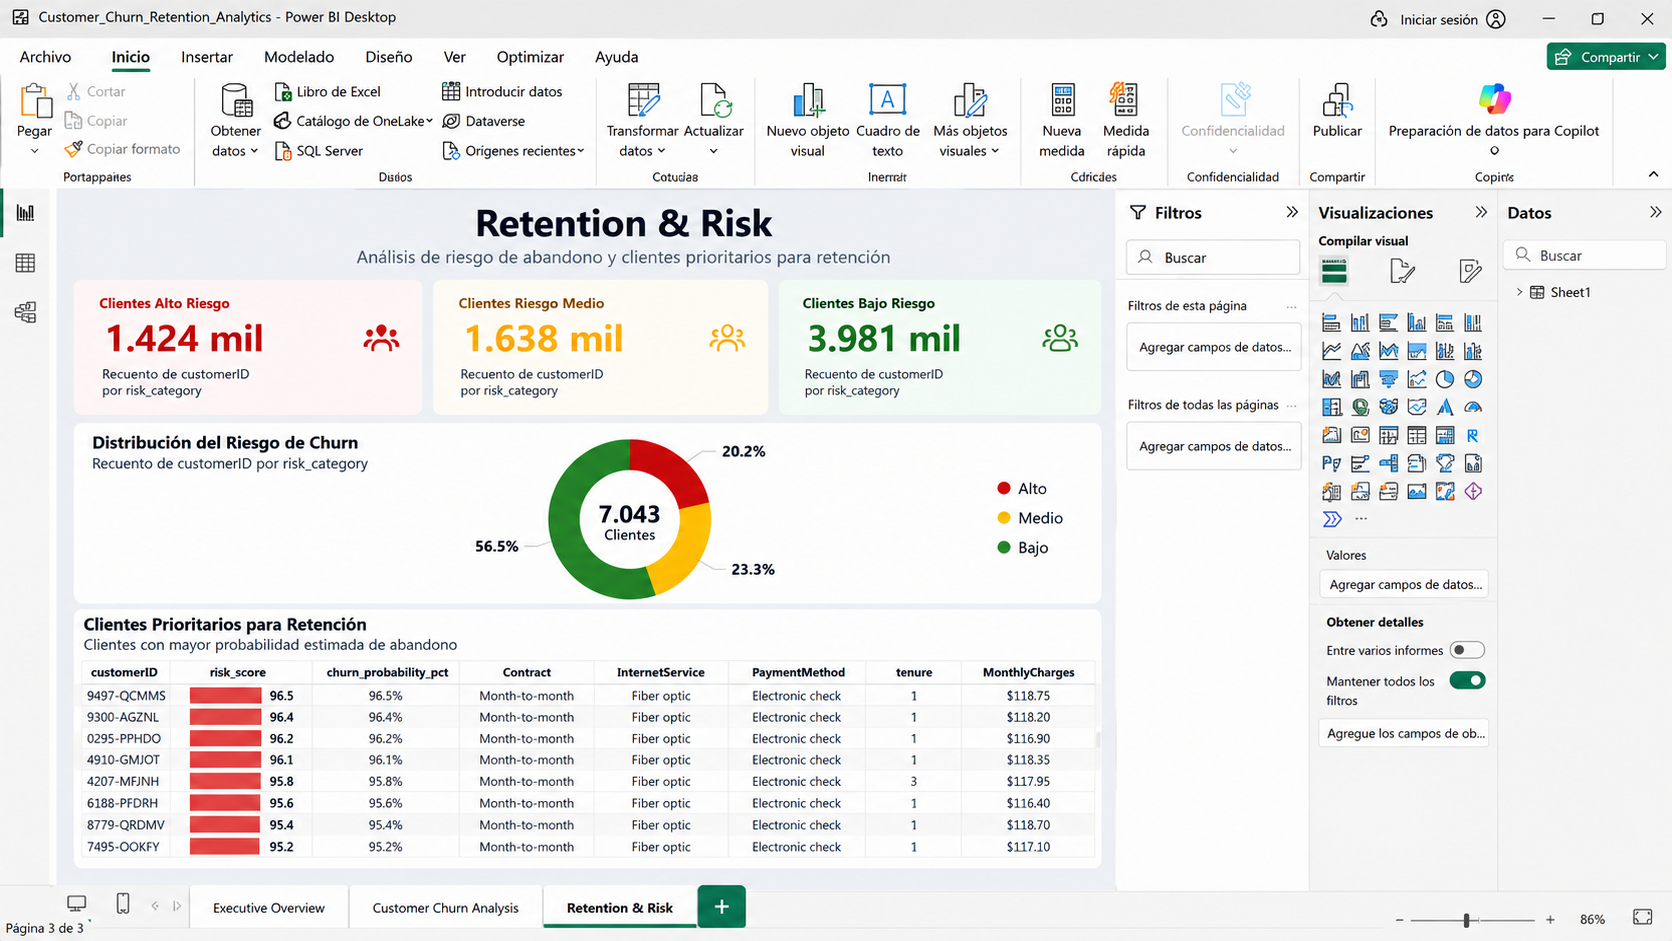

Layout of this report page (visuals, bound fields, positions):
{"tool":"powerbi","page":{"name":"Retention & Risk","canvas":[1920,1080],"ordinal":2},"visuals":[{"type":"textbox","box":[0,0,290,82.5],"z":0},{"type":"textbox","box":[0,62.5,460,52.5],"z":1},{"type":"cardVisual","title":"Clientes De Alto Riesgo","fields":{"Data":["CountNonNull(Sheet1.customerID)"]},"box":[62.5,90,332.5,150],"z":2},{"type":"cardVisual","title":"Clientes De Riesgo Medio","fields":{"Data":["CountNonNull(Sheet1.customerID)"]},"box":[792.5,90,332.5,150],"z":3},{"type":"cardVisual","title":"Clientes De Bajo Riesgo","fields":{"Data":["CountNonNull(Sheet1.customerID)"]},"box":[1522.5,82.5,332.5,150],"z":4},{"type":"donutChart","fields":{"Category":["Sheet1.risk_category"],"Y":["CountNonNull(Sheet1.customerID)"]},"box":[62.5,262.5,1792.5,305],"z":5},{"type":"tableEx","fields":{"Values":["Sheet1.customerID","Sum(Sheet1.risk_score)","Sum(Sheet1.churn_probability_pct)","Sheet1.Contract","Sheet1.InternetService","Sheet1.PaymentMethod","Sum(Sheet1.tenure)","Sum(Sheet1.MonthlyCharges)"]},"box":[63,578,1793,305],"z":6}]}

Visuals, with their boxes on the page's 1920x1080 design canvas (x1, y1, x2, y2). These are canvas units, not pixel positions in the 1672x941 screenshot, which may show the page scaled, cropped or inside an application window:
textbox: 0:0:290:82
textbox: 0:62:460:115
"Clientes De Alto Riesgo" cardVisual: 62:90:395:240
"Clientes De Riesgo Medio" cardVisual: 792:90:1125:240
"Clientes De Bajo Riesgo" cardVisual: 1522:82:1855:232
donutChart - Sheet1.risk_category x CountNonNull(Sheet1.customerID): 62:262:1855:568
tableEx - Sheet1.customerID x Sum(Sheet1.risk_score): 63:578:1856:883
